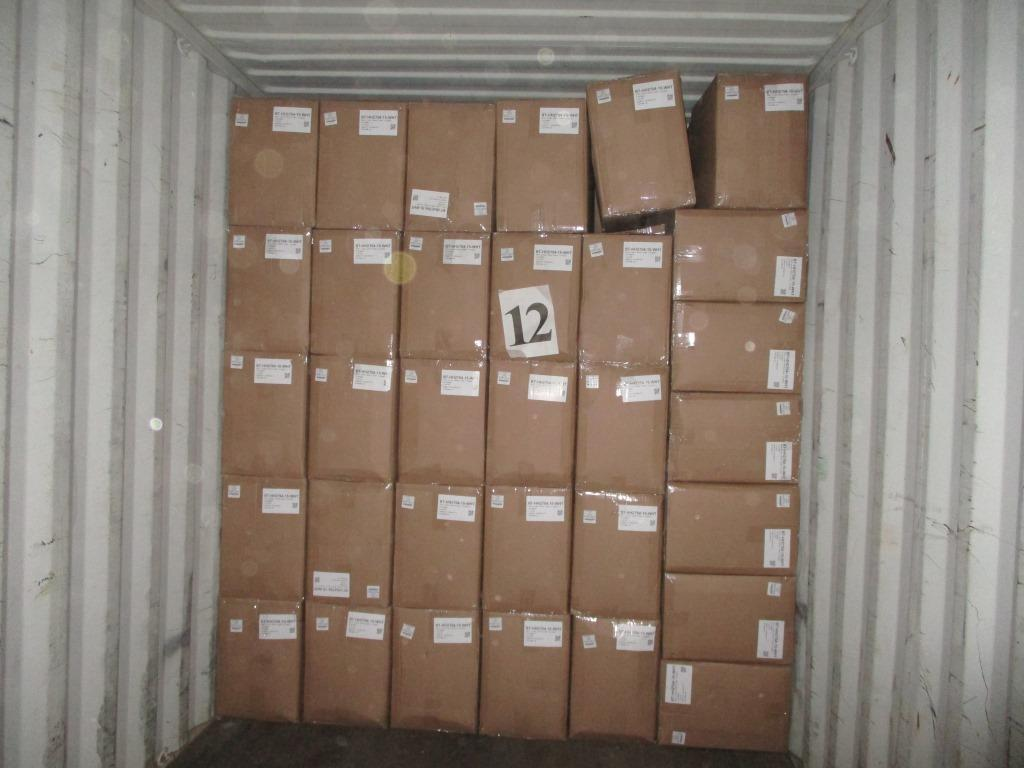carton: (587, 68, 694, 227), (694, 73, 809, 208), (672, 208, 807, 302), (574, 360, 668, 494), (663, 482, 799, 574), (495, 97, 588, 231), (661, 574, 797, 665), (579, 231, 672, 364), (658, 659, 792, 751), (667, 391, 801, 483), (670, 301, 804, 393), (226, 96, 319, 228), (569, 490, 662, 619), (489, 232, 582, 361), (316, 98, 407, 228), (400, 229, 491, 359), (485, 358, 576, 487), (310, 228, 401, 357), (404, 102, 494, 232), (308, 353, 398, 482), (482, 485, 573, 612), (480, 611, 570, 739), (398, 357, 486, 486), (392, 483, 482, 609), (570, 617, 660, 742), (220, 350, 309, 476), (390, 606, 479, 731), (214, 595, 303, 720), (303, 601, 391, 726), (306, 480, 394, 605), (219, 474, 306, 600), (226, 225, 312, 351)
